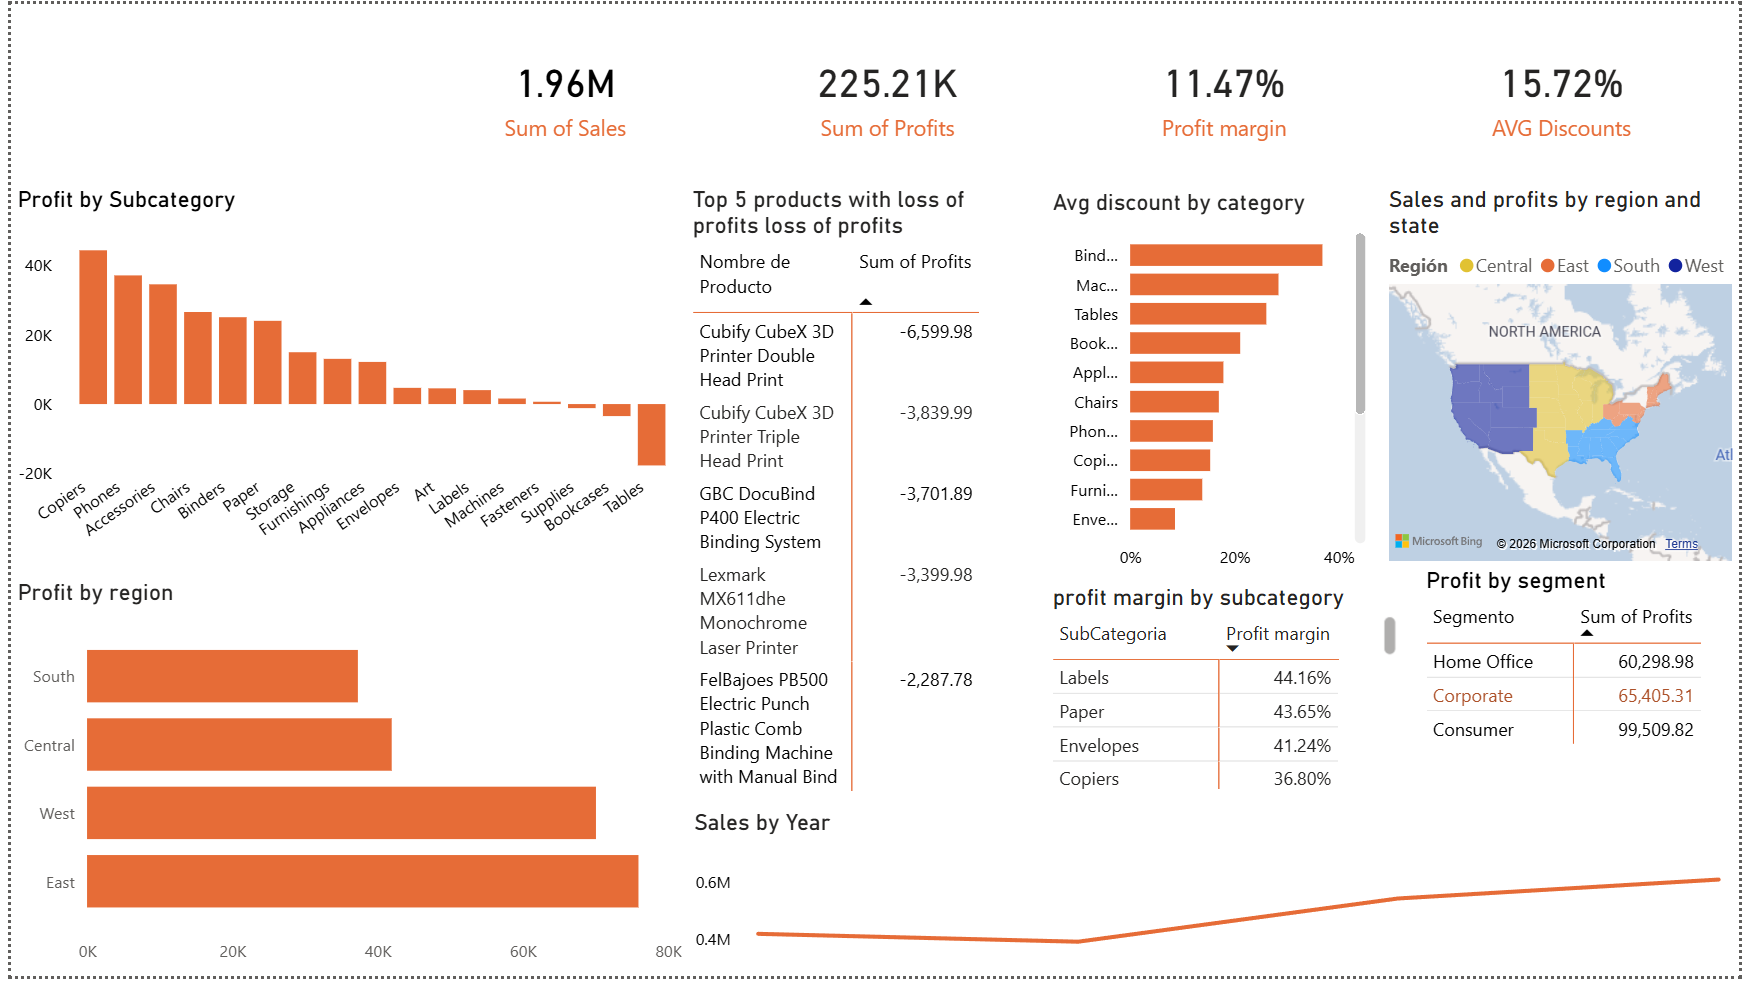

Layout of this report page (visuals, bound fields, positions):
{"tool":"powerbi","page":{"name":"Page 1","canvas":[1280,720],"ordinal":0},"visuals":[{"type":"clusteredColumnChart","title":"Profit by Subcategory","fields":{"Category":["ORDENES.SubCategoria"],"Y":["Sum(ORDENES.Ganancias)"]},"box":[0,134.3,500,282.9],"z":0},{"type":"clusteredBarChart","title":"Profit by region ","fields":{"Y":["Sum(ORDENES.Ganancias)"],"Category":["ORDENES.Región"]},"box":[0,425.7,501.4,294.3],"z":1000},{"type":"pivotTable","title":" profit margin by subcategory","fields":{"Rows":["ORDENES.SubCategoria"],"Values":["ORDENES.Profit margin"]},"box":[767.1,428.6,264.3,157.1],"z":2000},{"type":"pivotTable","title":"Profit by segment ","fields":{"Rows":["ORDENES.Segmento"],"Values":["Sum(ORDENES.Ganancias)"]},"box":[1042.9,417.1,237.1,178.6],"z":3000},{"type":"pivotTable","title":"Top 5 products with loss of profits loss of profits ","fields":{"Rows":["ORDENES.Nombre de Producto"],"Values":["Sum(ORDENES.Ganancias)"]},"box":[500,134.3,245.7,461.4],"z":4000},{"type":"card","fields":{"Values":["Sum(ORDENES.Ventas Originales (con descuento))"]},"box":[288.6,0,242.9,134.3],"z":5000},{"type":"card","fields":{"Values":["Sum(ORDENES.Ganancias)"]},"box":[531.4,0,235.7,134.3],"z":6000},{"type":"card","fields":{"Values":["ORDENES.margen de ganacia"]},"box":[781.4,0,234.3,134.3],"z":7000},{"type":"card","fields":{"Values":["ORDENES.AVG Descuetos"]},"box":[1031.4,0,234.3,134.3],"z":8000},{"type":"clusteredBarChart","title":"Avg discount by category ","fields":{"Y":["ORDENES.AVG Descuetos"],"Category":["ORDENES.SubCategoria"]},"box":[767.1,137.1,241.4,291.4],"z":9000},{"type":"filledMap","title":"Sales and profits by region and state","fields":{"Category":["ORDENES.Pais Hierarchy.Estado"],"Series":["ORDENES.Región"]},"box":[1015.7,134.3,264.3,282.9],"z":10000},{"type":"lineChart","title":" Sales by Year","fields":{"Category":["ORDENES.Fecha de Apertura.Variation.Date Hierarchy.Year","ORDENES.Fecha de Apertura.Variation.Date Hierarchy.Month","ORDENES.Fecha de Apertura.Variation.Date Hierarchy.Day"],"Y":["Sum(ORDENES.Ventas Originales (con descuento))"]},"box":[501.4,595.7,778.6,124.3],"z":11000}]}

Visuals, with their boxes in screenshot pixels (x1, y1, x2, y2), scaled from the page's 1280x720 canvas onto the 1750x981 screenshot:
"Profit by Subcategory" clusteredColumnChart: x1=0 y1=183 x2=684 y2=568
"Profit by region " clusteredBarChart: x1=0 y1=580 x2=686 y2=980
" profit margin by subcategory" pivotTable: x1=1049 y1=584 x2=1410 y2=798
"Profit by segment " pivotTable: x1=1426 y1=568 x2=1749 y2=812
"Top 5 products with loss of profits loss of profits " pivotTable: x1=684 y1=183 x2=1020 y2=812
card - Sum(ORDENES.Ventas Originales (con descuento)): x1=395 y1=0 x2=727 y2=183
card - Sum(ORDENES.Ganancias): x1=727 y1=0 x2=1049 y2=183
card - ORDENES.margen de ganacia: x1=1068 y1=0 x2=1389 y2=183
card - ORDENES.AVG Descuetos: x1=1410 y1=0 x2=1730 y2=183
"Avg discount by category " clusteredBarChart: x1=1049 y1=187 x2=1379 y2=584
"Sales and profits by region and state" filledMap: x1=1389 y1=183 x2=1749 y2=568
" Sales by Year" lineChart: x1=686 y1=812 x2=1749 y2=980
